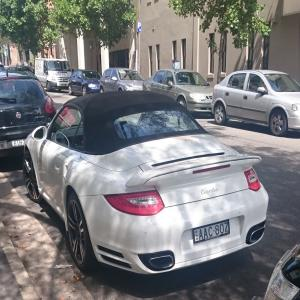Vehicle-registration-plate: (194, 220, 231, 244), (13, 139, 28, 148)
